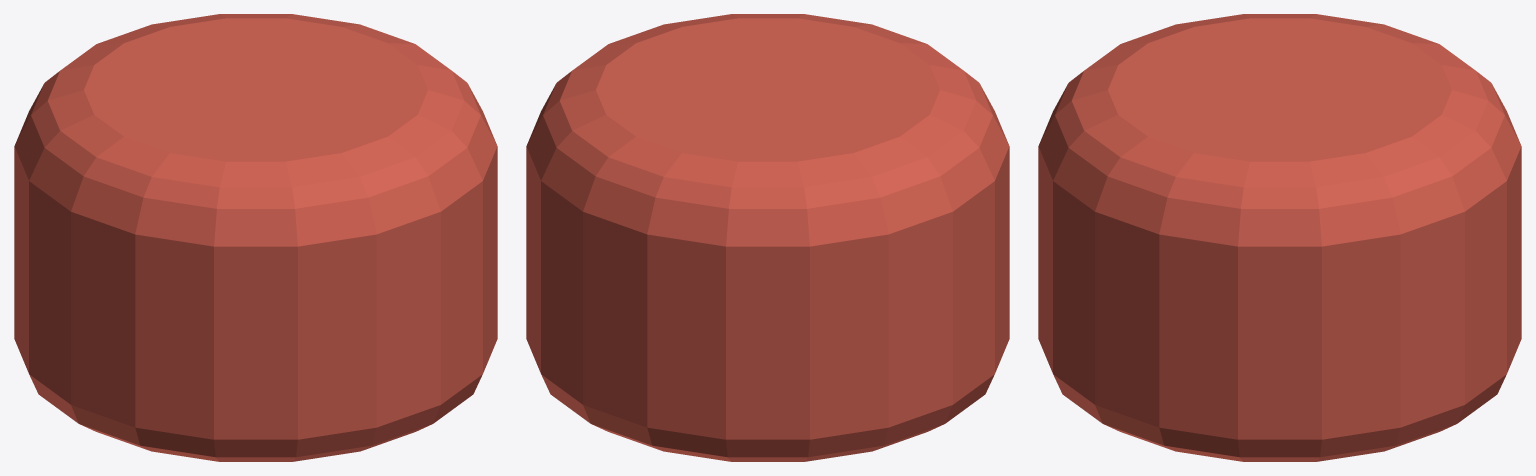
The model's file is otomana.fbx.
3 views of the same model, side by side, from view 1: azimuth 30°, elevation 25°; view 2: azimuth 150°, elevation 25°; view 3: azimuth 270°, elevation 25° (orthographic).
Visible parts, largest first — view 1: Cylinder; view 2: Cylinder; view 3: Cylinder.
Boxes of the visible parts, x1,y1,x2,y2 form: Cylinder: (14, 14, 497, 461); Cylinder: (526, 14, 1009, 461); Cylinder: (1038, 14, 1521, 461).
Bounding box in the file's own units: 87.08 × 60.56 × 88.42.
